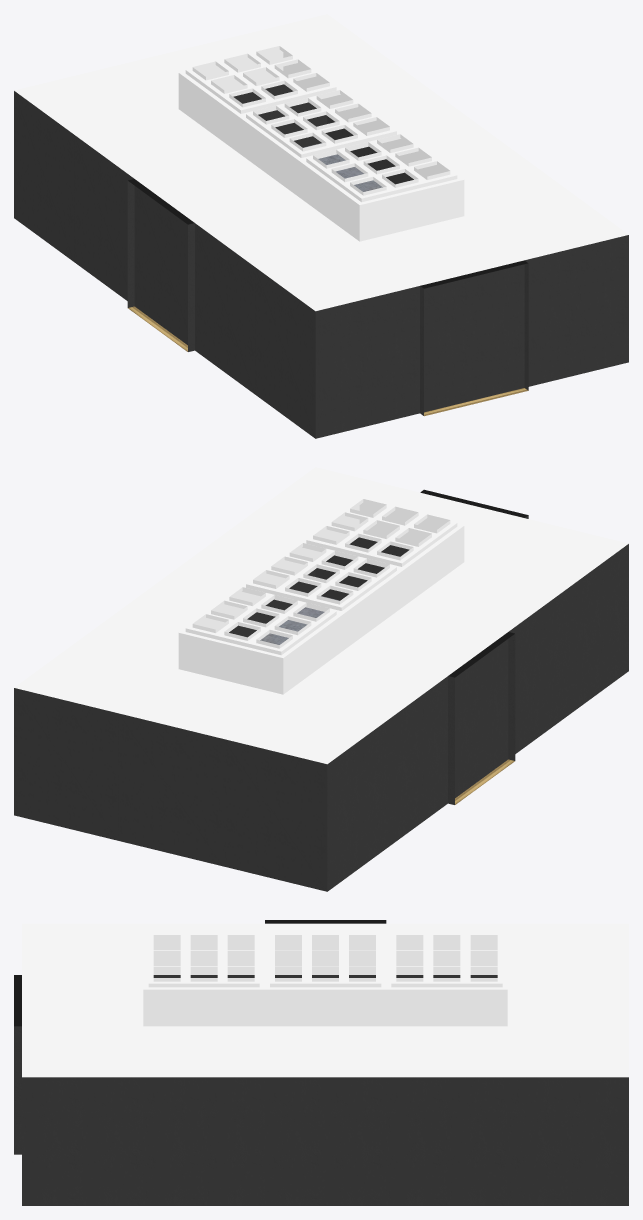
The model's file is onboarding_clean.glb.
3 renders of one model, top to bottom at view 1: azimuth 30°, elevation 25°; view 2: azimuth 150°, elevation 25°; view 3: azimuth 270°, elevation 25°, orthographic.
Parts seen in each view (by area): view 1: CombinedMesh.002; view 2: CombinedMesh.002; view 3: CombinedMesh.002.
Part boxes in pixels (x1,y1,x2,y2): CombinedMesh.002: [14, 14, 628, 438]; CombinedMesh.002: [14, 467, 628, 891]; CombinedMesh.002: [14, 920, 628, 1205].
Size of what is drawn, in the model's own units: 9.2 by 4.7 by 15.2.
Materials: 1 (1 with a texture image).
